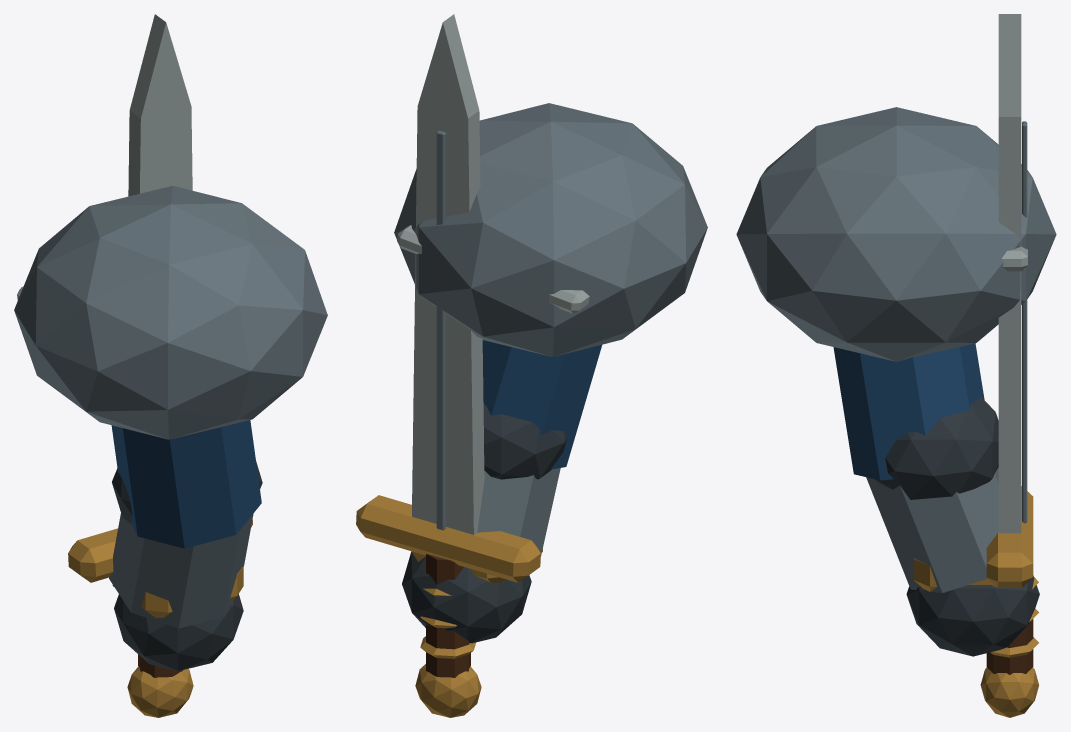
The model's file is ArmRight.glb.
3 renders of one model, left to right at view 1: azimuth 30°, elevation 25°; view 2: azimuth 150°, elevation 25°; view 3: azimuth 270°, elevation 25°, orthographic.
Parts seen in each view (by area): view 1: Sculpture; view 2: Sculpture; view 3: Sculpture.
Part boxes in pixels (left/top/right/bottom): Sculpture: left=14, top=14, right=327, bottom=717; Sculpture: left=356, top=14, right=707, bottom=717; Sculpture: left=736, top=14, right=1056, bottom=717.
Size of the model in its own units: 0.47 by 1.16 by 0.48.
